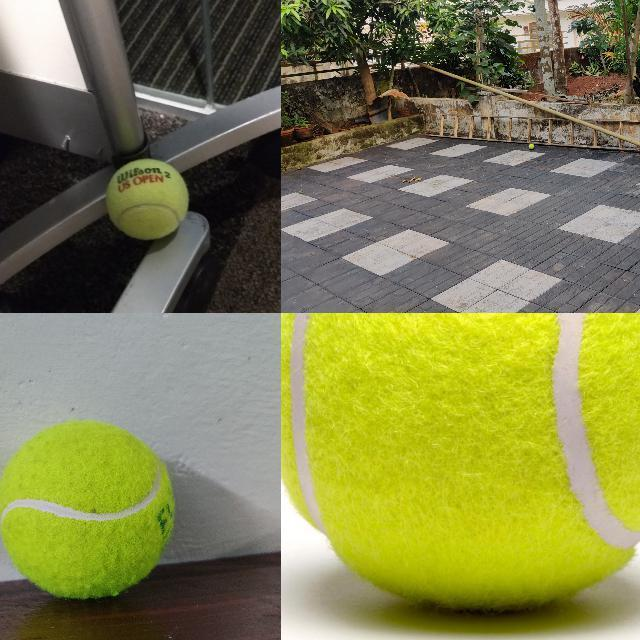tennis-ball: (281, 313, 639, 615), (0, 419, 175, 599), (105, 157, 189, 240), (528, 143, 534, 149)
